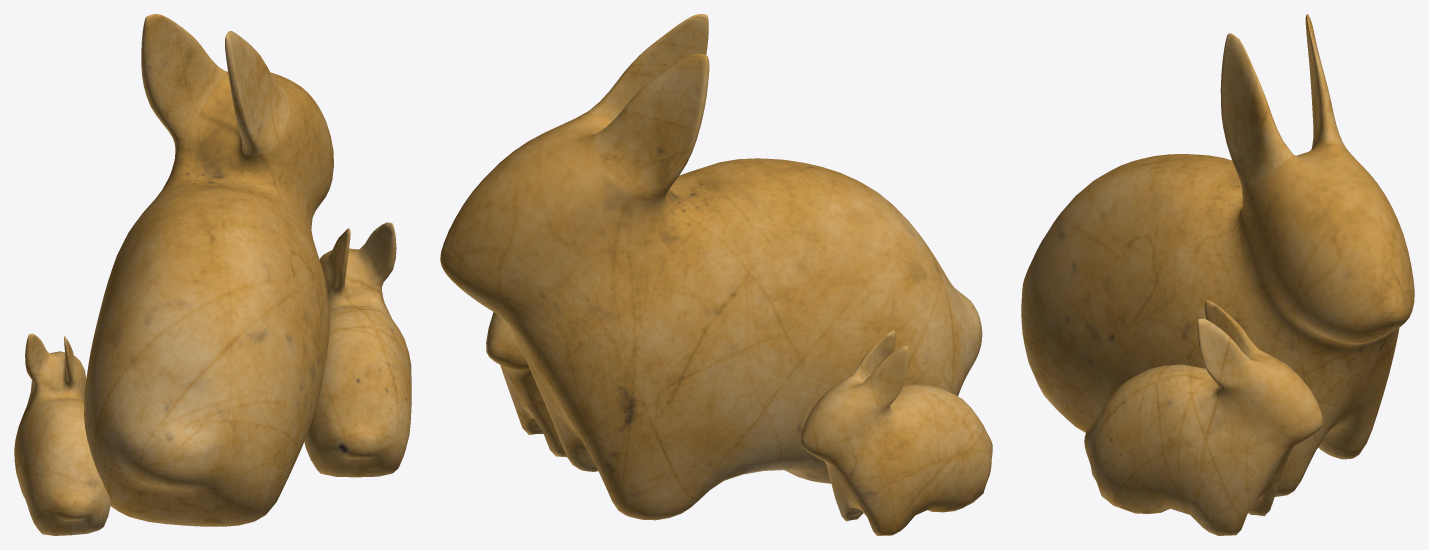
The model's file is conejos.obj.
The picture shows the model from 3 angles, left to right: view 1: azimuth 30°, elevation 25°; view 2: azimuth 150°, elevation 25°; view 3: azimuth 270°, elevation 25°; orthographic projection. The views are drawn at different scales.
Parts seen in each view (by area): view 1: RabbitFamily; view 2: RabbitFamily; view 3: RabbitFamily.
Part boxes in pixels (<box>): RabbitFamily: <box>14,14,411,535</box>; RabbitFamily: <box>440,14,992,535</box>; RabbitFamily: <box>1021,14,1414,535</box>.
Size of the model in its own units: 0.1982 by 0.2029 by 0.1693.
1 material, 1 textured.
